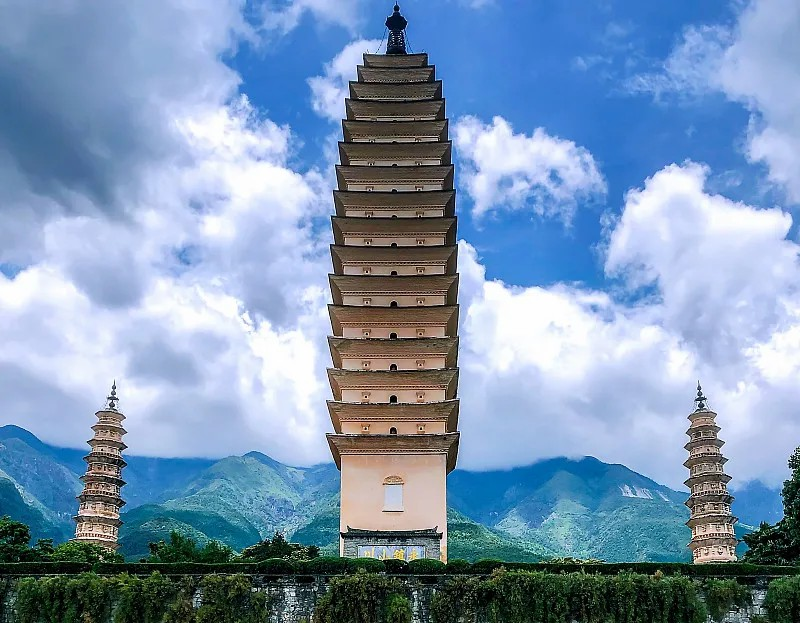ThreePagoda: (327, 2, 460, 561)
